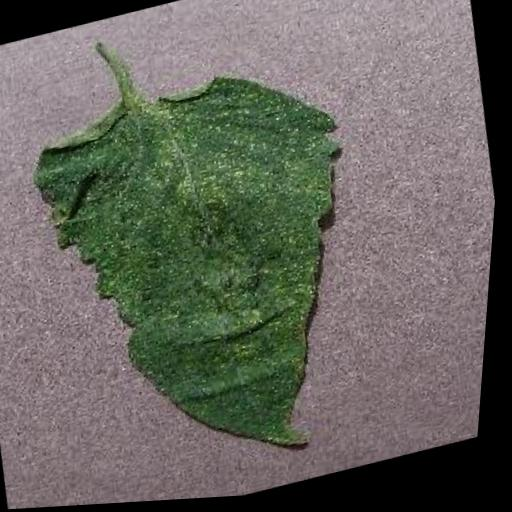Spider Mites: (3, 45, 407, 510)
